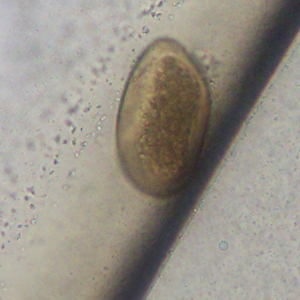Fasciola_hepatica_egg: (114, 34, 212, 200)
